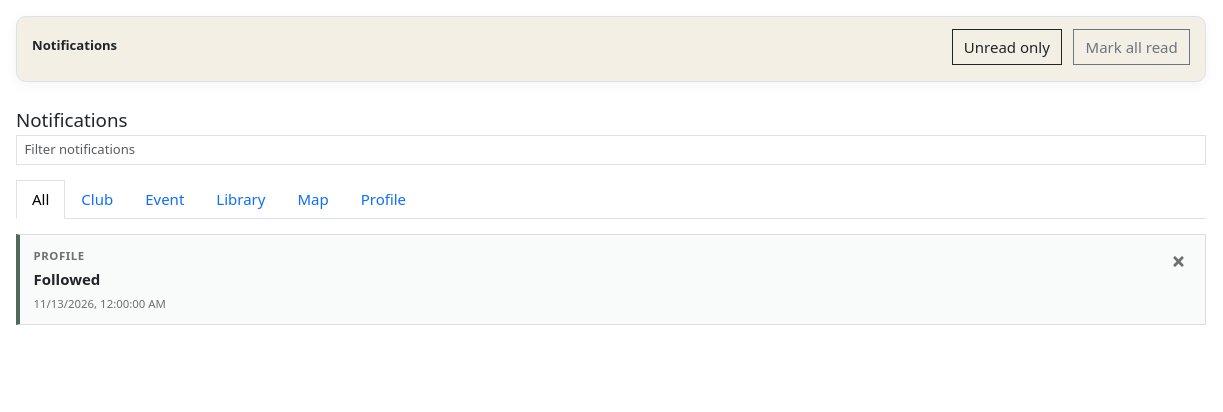
refreshes confirmed state after a partially failed mark-all action
expect the link "Followed" is shown: met, box [34, 268, 100, 291]
Step 1. Click the button "Mark all read" → (1132, 47), box [1073, 29, 1190, 65]
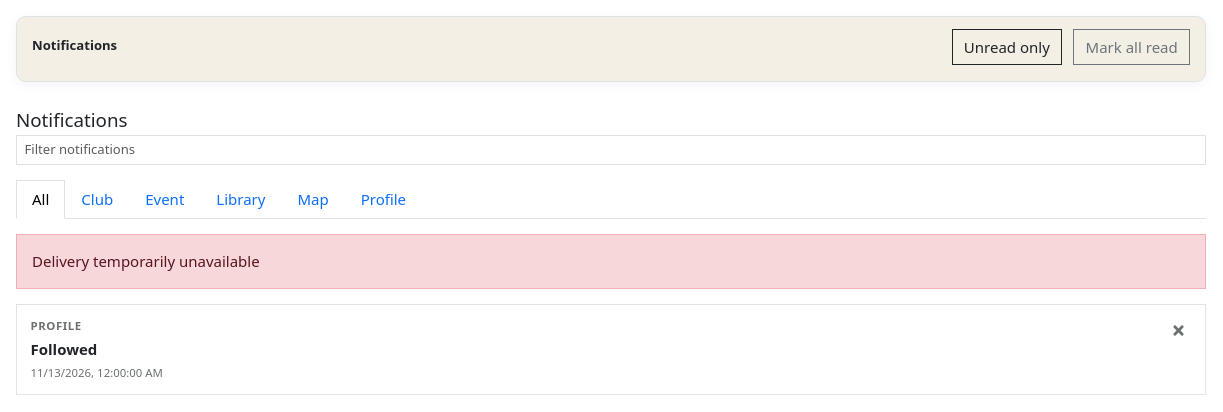
expect the text "Delivery temporarily unavailable" is shown: met, box [16, 234, 1206, 288]
